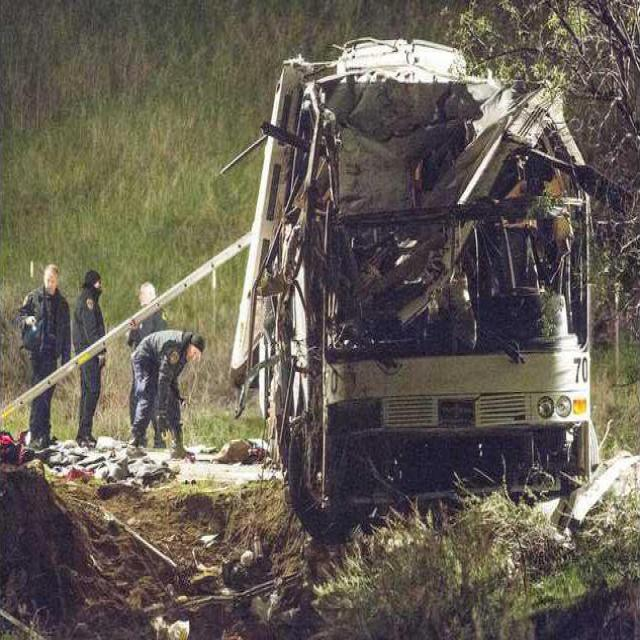Accident: (227, 32, 631, 548)
